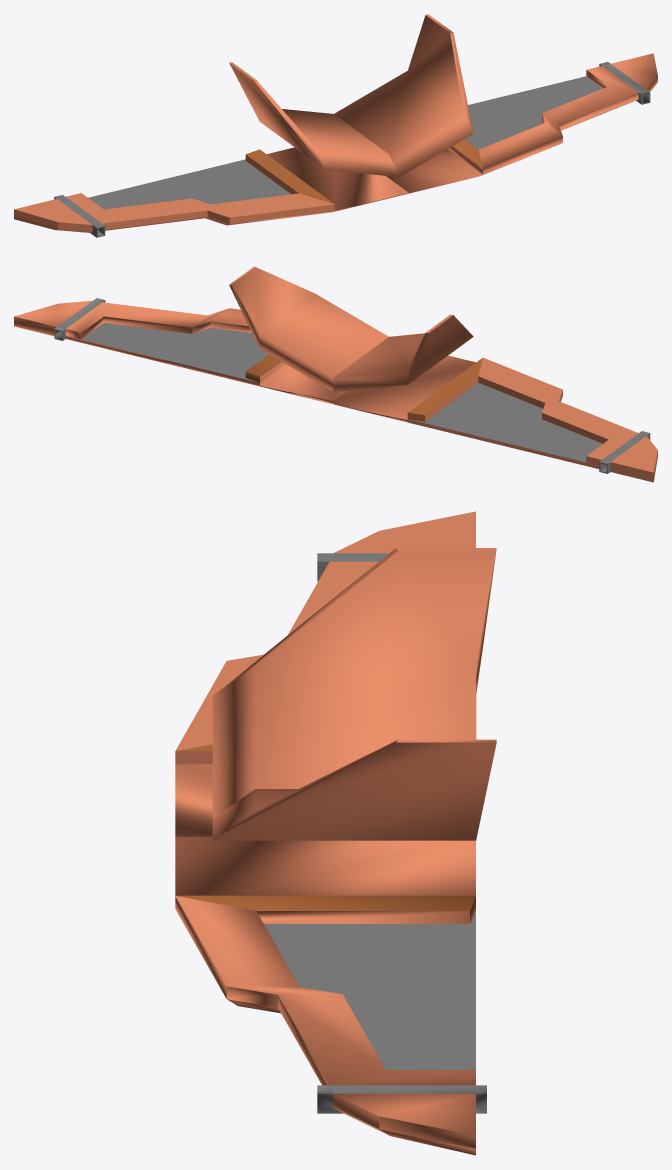
The model's file is 4_Wing.fbx.
3 views of the same model, one above another, from view 1: azimuth 30°, elevation 25°; view 2: azimuth 150°, elevation 25°; view 3: azimuth 270°, elevation 25° (orthographic). The views are drawn at different scales.
Visible parts, largest first — view 1: 4_Wing; view 2: 4_Wing; view 3: 4_Wing.
Part boxes in pixels (x1,y1,x2,y2): 4_Wing: (14,14,657,237); 4_Wing: (14,266,657,482); 4_Wing: (175,511,496,1155).
Bounding box in the file's own units: 5.38 × 0.796 × 1.17.
1 material, 1 textured.
